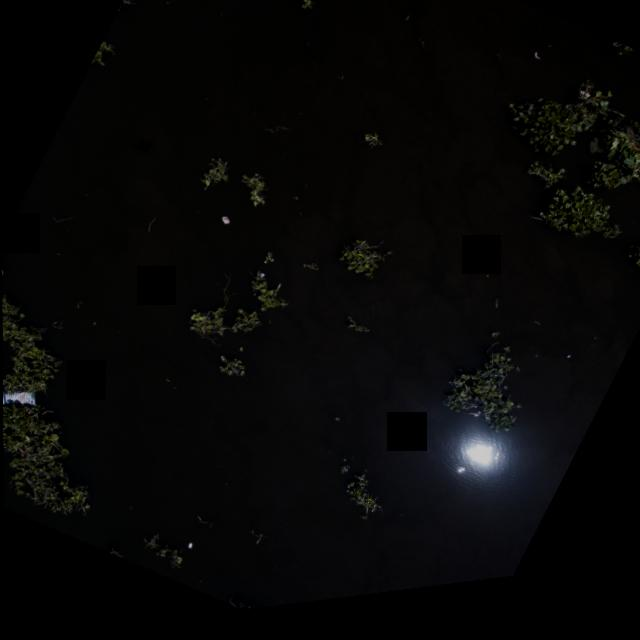plastic: (2, 375, 45, 423), (177, 536, 202, 563), (524, 58, 550, 82), (215, 214, 233, 236), (255, 274, 270, 290)
